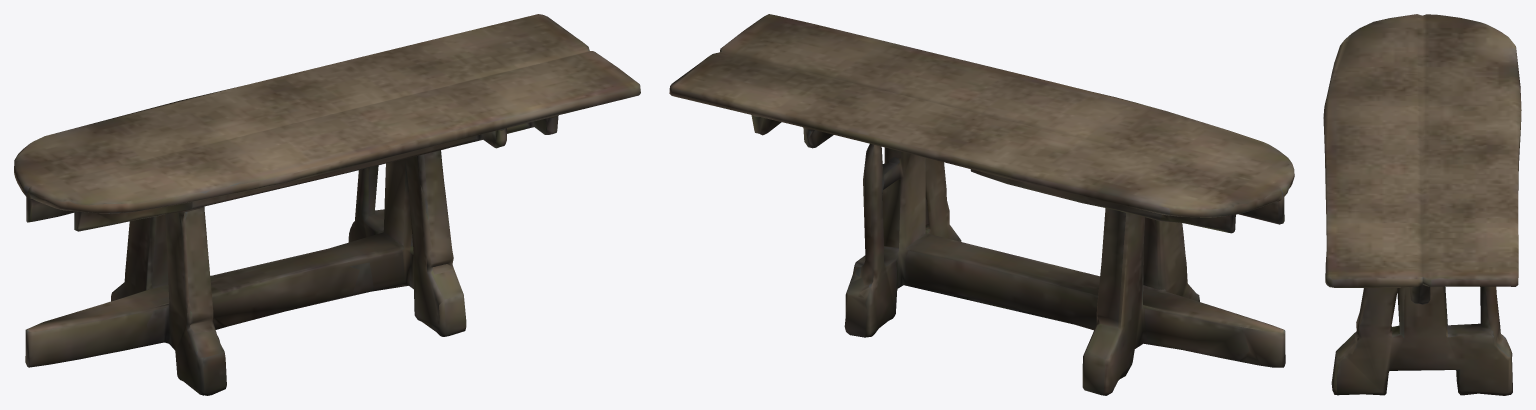
Rendered from rustic-wood-banquet-table-v002.glb.
3 renders of one model, left to right at view 1: azimuth 30°, elevation 25°; view 2: azimuth 150°, elevation 25°; view 3: azimuth 270°, elevation 25°, orthographic. The views are drawn at different scales.
Visible parts, largest first — view 1: rustic-wood-banquet-table; view 2: rustic-wood-banquet-table; view 3: rustic-wood-banquet-table.
Part boxes in pixels (x1,y1,x2,y2): rustic-wood-banquet-table: [14, 14, 640, 395]; rustic-wood-banquet-table: [669, 14, 1294, 395]; rustic-wood-banquet-table: [1323, 14, 1521, 395].
Bounding box in the file's own units: 2.25 × 0.7988 × 0.708.
Materials: 1 (1 with a texture image).
